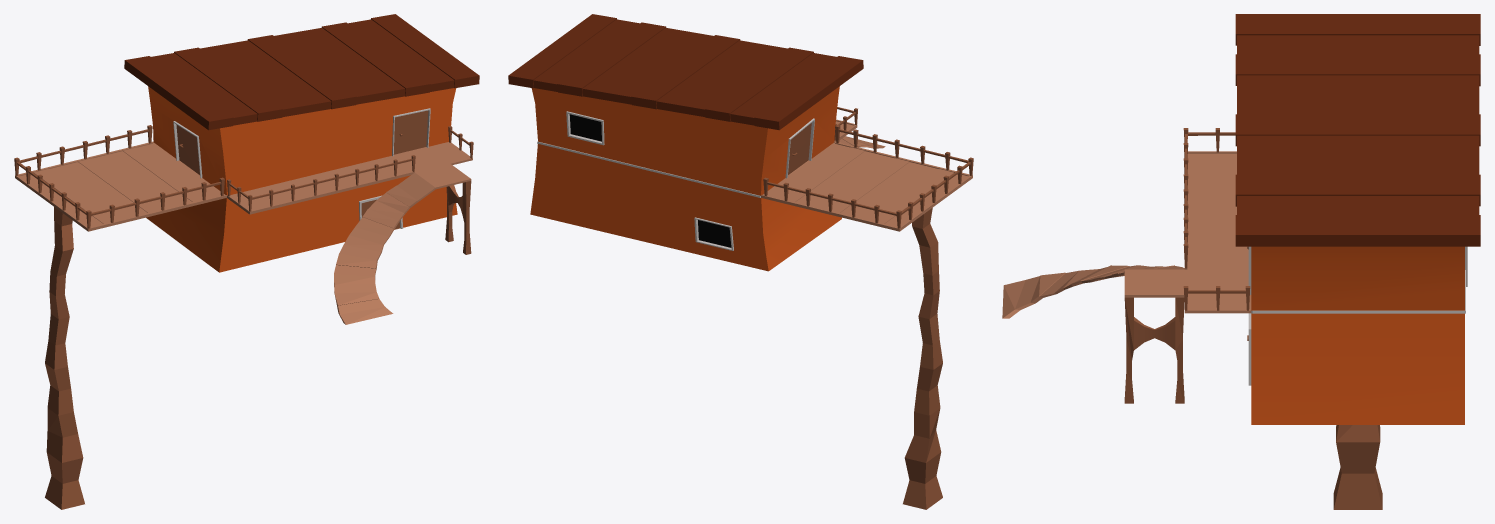
The model's file is Immeuble (1).FBX.
3 views of the same model, side by side, from view 1: azimuth 30°, elevation 25°; view 2: azimuth 150°, elevation 25°; view 3: azimuth 270°, elevation 25° (orthographic). The views are drawn at different scales.
Visible parts, largest first — view 1: Immeuble; view 2: Immeuble; view 3: Immeuble.
Part boxes in pixels (box(x1,y1,x2,y2)): Immeuble: box(14, 14, 479, 509); Immeuble: box(508, 14, 973, 509); Immeuble: box(1002, 14, 1480, 509).
Bounding box in the file's own units: 1342 × 1273 × 986.
